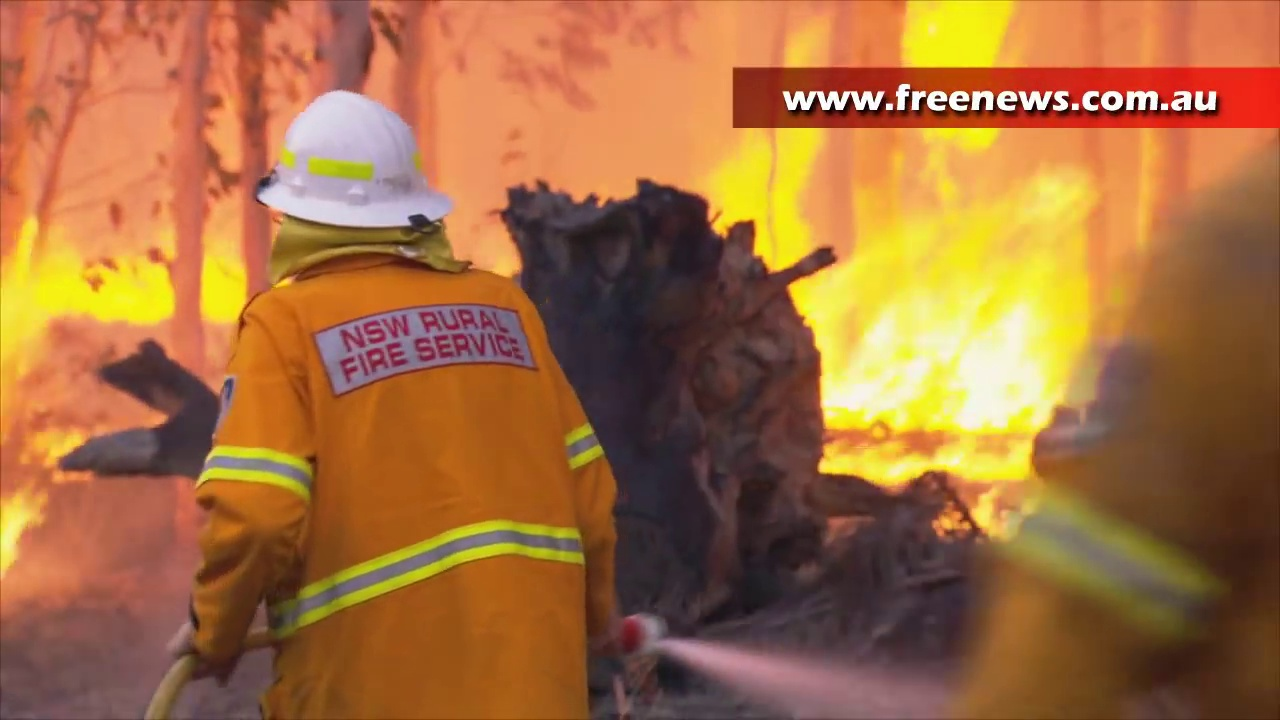fire: (813, 169, 1090, 462), (3, 482, 39, 554)
